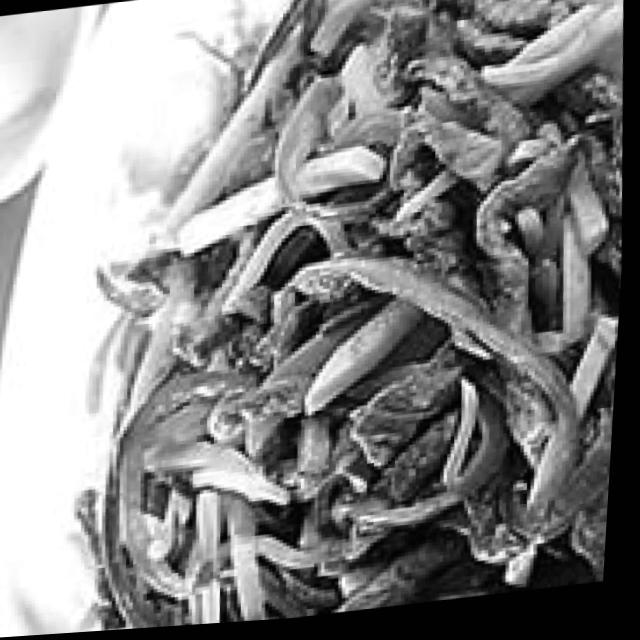牛肉菜式: (26, 0, 640, 637)
